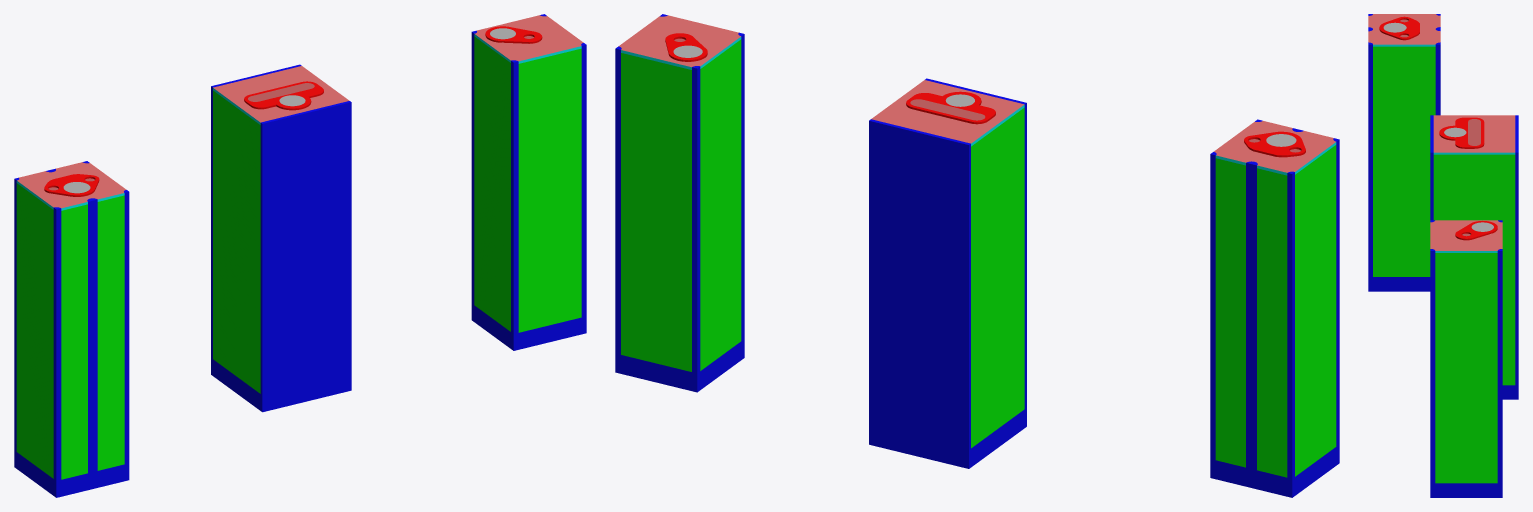
Rendered from 3Dstructuresinfn.glb.
The picture shows the model from 3 angles, left to right: view 1: azimuth 30°, elevation 25°; view 2: azimuth 150°, elevation 25°; view 3: azimuth 270°, elevation 25°; orthographic projection. The views are drawn at different scales.
Parts seen in each view (by area): view 1: Node7, Node147, Node16, Node254, Node161, Node262, Node258, Node260, Node18, Node136, Node145, Node257 (+17 smaller); view 2: Node5, Node158, Node16, Node161, Node254, Node247, Node251, Node248, Node18, Node9, Node156, Node117 (+17 smaller); view 3: Node154, Node266, Node14, Node124, Node149, Node18, Node264, Node106, Node102, Node128, Node6, Node17 (+8 smaller).
Part boxes in pixels (<box>): Node7: <box>262,102,351,395</box>; Node147: <box>518,48,581,332</box>; Node16: <box>213,90,260,393</box>; Node254: <box>16,183,53,478</box>; Node161: <box>474,36,510,331</box>; Node262: <box>97,195,124,470</box>; Node258: <box>61,204,87,479</box>; Node260: <box>88,202,97,473</box>; Node18: <box>213,66,325,104</box>; Node136: <box>124,194,129,464</box>; Node145: <box>513,64,518,333</box>; Node257: <box>56,211,61,480</box>; Node5: <box>869,121,968,449</box>; Node158: <box>621,53,691,371</box>; Node16: <box>971,107,1024,448</box>; Node161: <box>700,39,741,370</box>; Node254: <box>1295,145,1336,476</box>; Node247: <box>1215,158,1245,467</box>; Node251: <box>1257,168,1287,477</box>; Node248: <box>1246,165,1256,470</box>; Node18: <box>871,99,997,143</box>; Node9: <box>869,425,968,468</box>; Node156: <box>615,51,620,354</box>; Node117: <box>692,70,697,373</box>; Node154: <box>1435,253,1497,483</box>; Node266: <box>1373,46,1435,276</box>; Node14: <box>1433,154,1515,385</box>; Node124: <box>1497,253,1502,483</box>; Node149: <box>1430,253,1435,483</box>; Node18: <box>1474,115,1515,152</box>; Node264: <box>1368,46,1372,276</box>; Node106: <box>1430,483,1502,497</box>; Node102: <box>1430,235,1502,250</box>; Node128: <box>1368,277,1430,291</box>; Node6: <box>1515,152,1518,385</box>; Node17: <box>1433,115,1474,152</box>.
Bounding box in the file's own units: 138 × 67.32 × 36.89.
